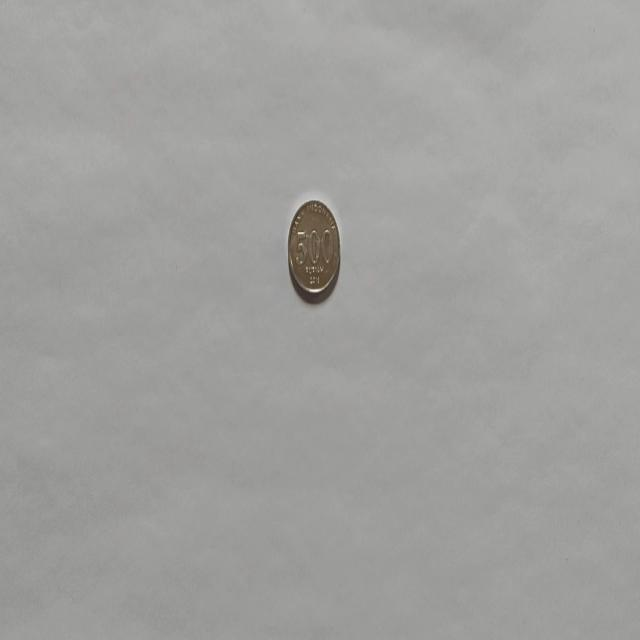lima ratus rupiah: (286, 198, 342, 302)
